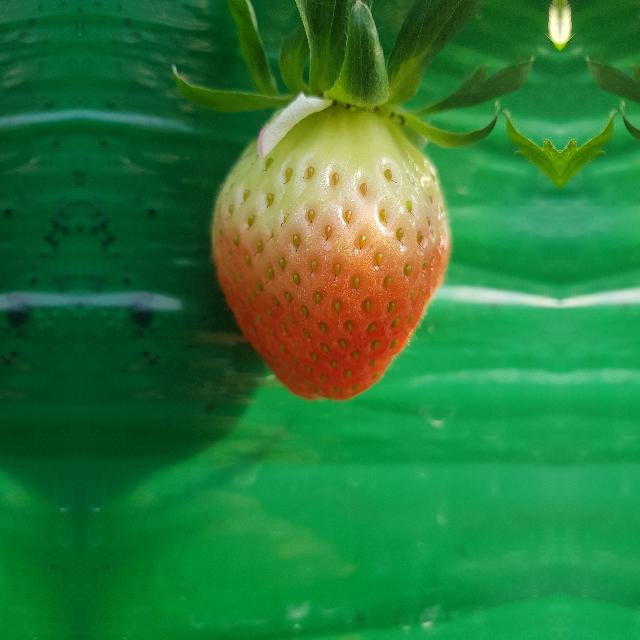Health_75: (208, 100, 452, 402)
